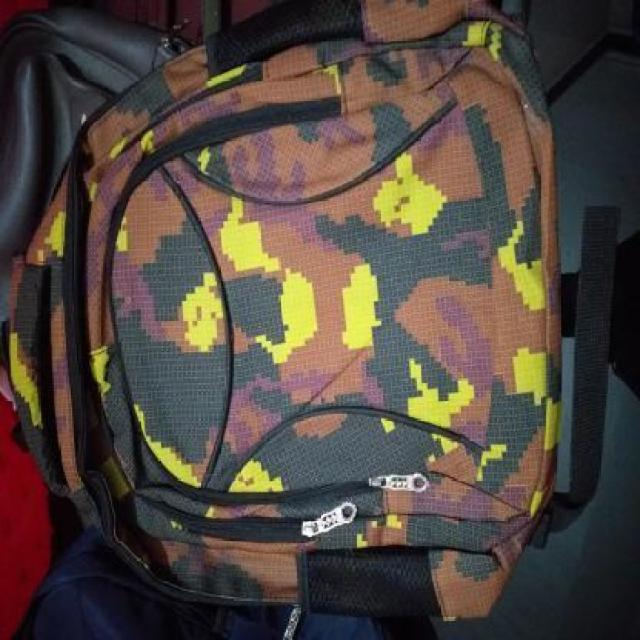backpack: (2, 0, 569, 628)
